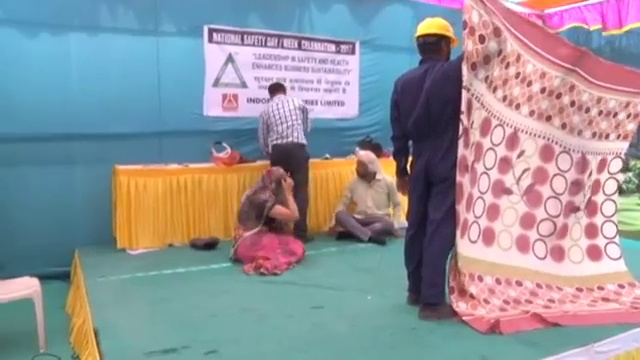helmet: (415, 15, 459, 46)
helmet_off: (353, 146, 378, 181), (263, 166, 289, 195), (265, 80, 290, 104)
helmet_on: (414, 15, 460, 63)
person: (387, 15, 458, 323), (253, 80, 316, 243), (236, 166, 306, 277), (330, 145, 398, 248)
